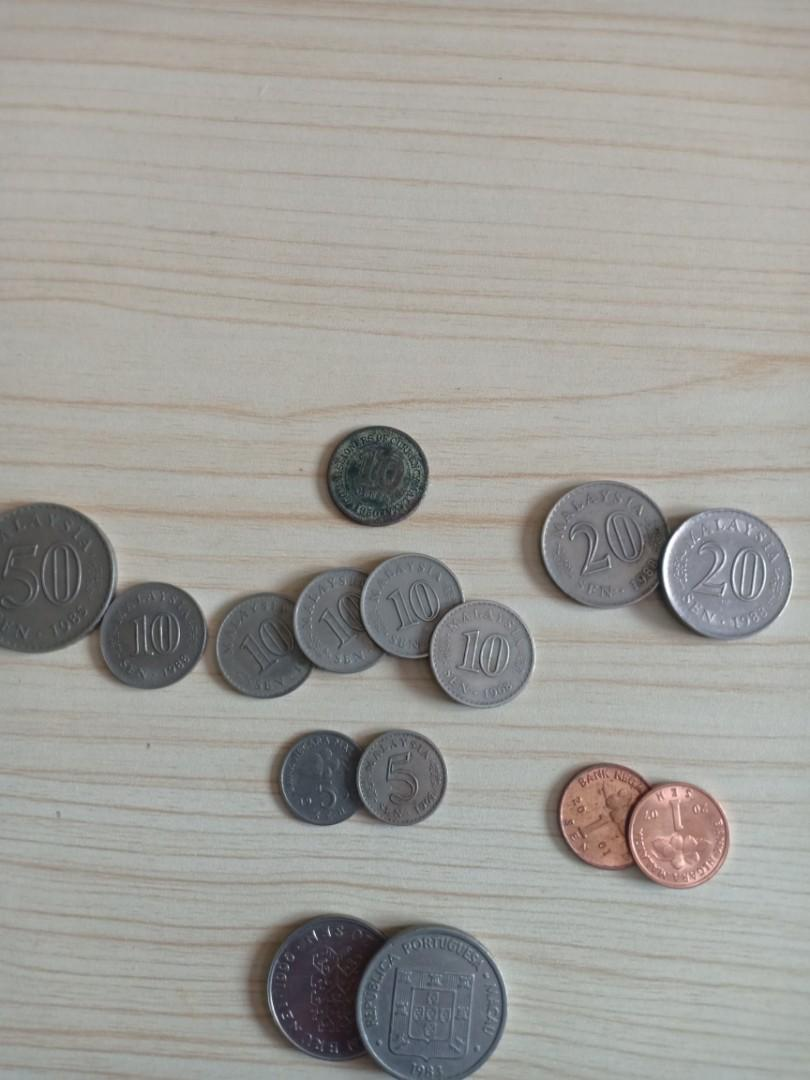10: (427, 597, 537, 710), (98, 580, 208, 689), (361, 552, 467, 660), (215, 588, 314, 701), (293, 566, 395, 675)
1c: (626, 781, 734, 891), (557, 760, 657, 870)
20: (539, 478, 672, 611), (661, 508, 794, 640)
5: (359, 727, 449, 828), (279, 729, 373, 825)
50: (0, 500, 122, 653)
